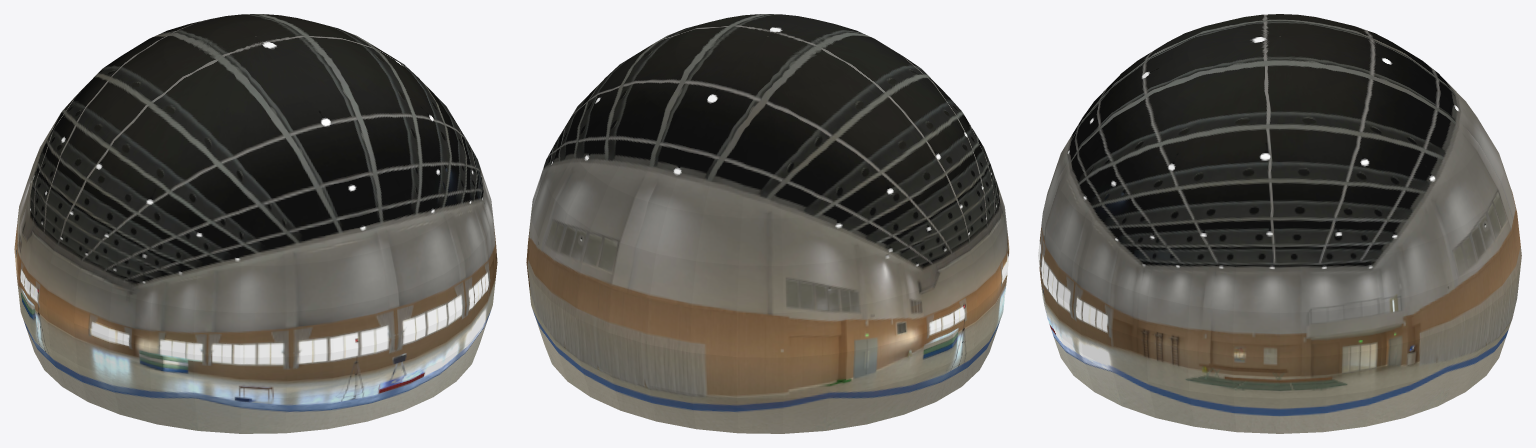
The model's file is Interior 60.glb.
3 views of the same model, side by side, from view 1: azimuth 30°, elevation 25°; view 2: azimuth 150°, elevation 25°; view 3: azimuth 270°, elevation 25° (orthographic).
Parts seen in each view (by area): view 1: Sphere; view 2: Sphere; view 3: Sphere.
Part boxes in pixels (x1,y1,x2,y2): Sphere: [14, 14, 497, 433]; Sphere: [526, 14, 1009, 433]; Sphere: [1038, 14, 1521, 433].
Size of the model in its own units: 20 by 13.83 by 20.
Materials: 1 (1 with a texture image).
